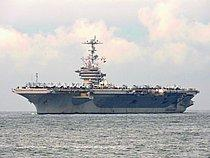MIL_Ship: (11, 35, 200, 115)
